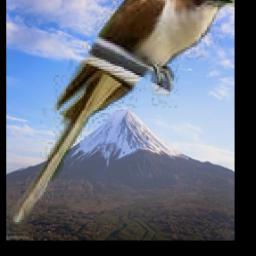Cuckoo: (10, 0, 235, 227)
